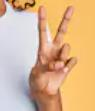front: (23, 4, 79, 95)
